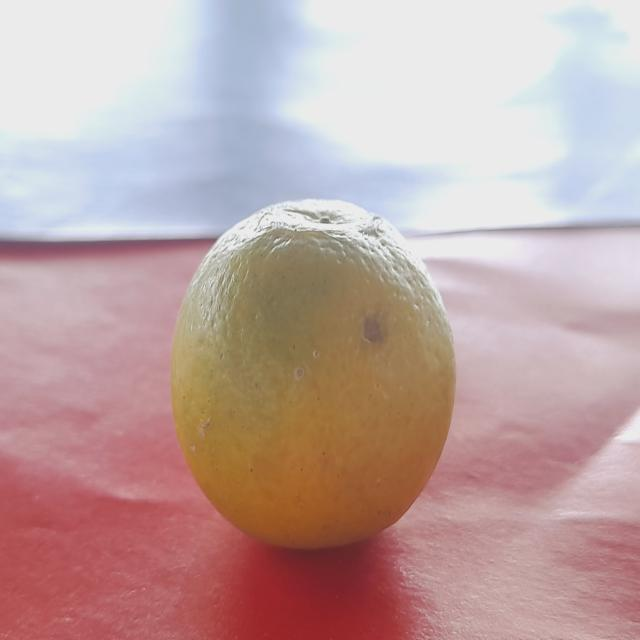greening: (160, 198, 464, 564)
